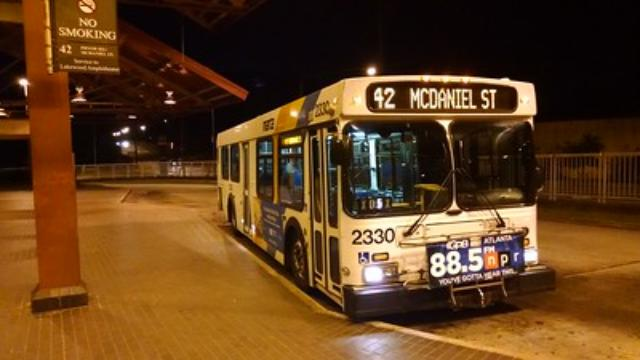bus: (218, 74, 557, 320)
